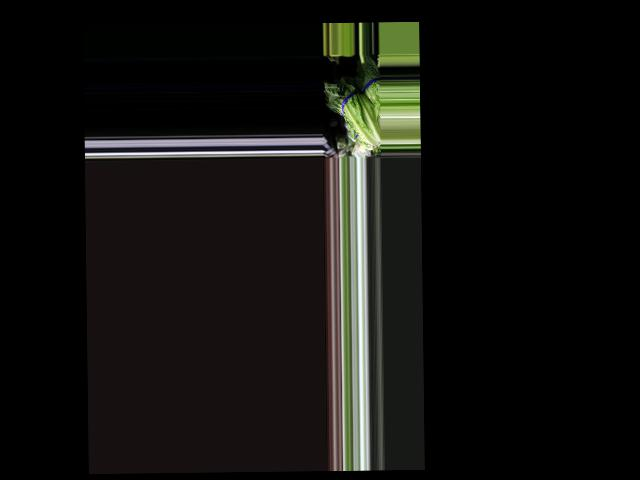lettuce: (328, 77, 381, 142)
